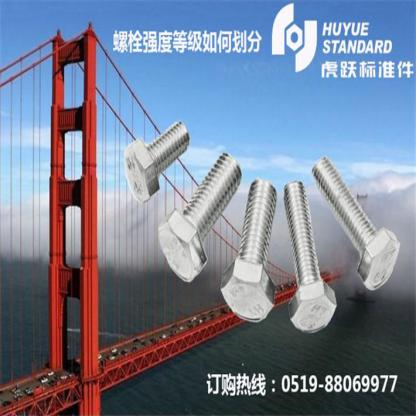FOD: (310, 152, 402, 292), (157, 149, 243, 285), (219, 175, 278, 325), (281, 178, 336, 338), (122, 118, 191, 204)
